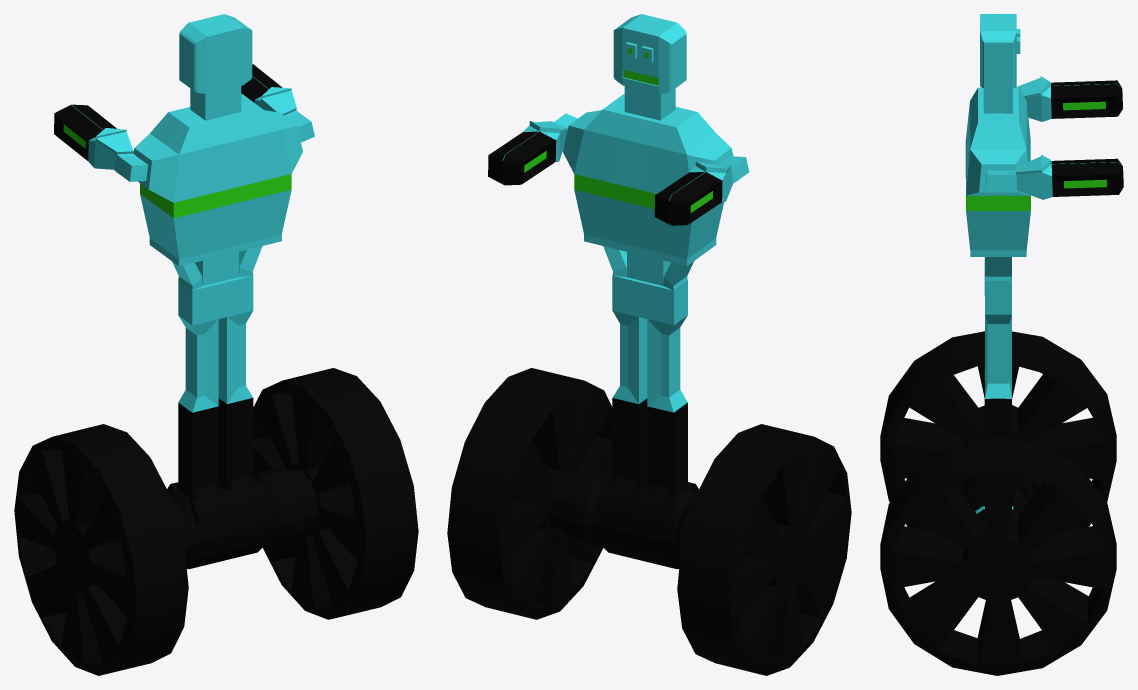
Rendered from RobotOnWheelsV1.fbx.
3 renders of one model, left to right at view 1: azimuth 30°, elevation 25°; view 2: azimuth 150°, elevation 25°; view 3: azimuth 270°, elevation 25°, orthographic. The views are drawn at different scales.
Parts seen in each view (by area): view 1: Cylinder, LeftWheel, RightWheel; view 2: Cylinder, LeftWheel, RightWheel; view 3: RightWheel, Cylinder, LeftWheel.
Boxes of the visible parts, x1,y1,x2,y2 form: Cylinder: [54, 14, 318, 569]; LeftWheel: [14, 424, 188, 675]; RightWheel: [253, 368, 418, 619]; Cylinder: [488, 14, 749, 568]; LeftWheel: [677, 424, 851, 675]; RightWheel: [447, 368, 612, 619]; RightWheel: [880, 437, 1116, 675]; Cylinder: [962, 14, 1123, 515]; LeftWheel: [880, 331, 1116, 531].
Size of the model in its own units: 86.2 by 174 by 65.56.
